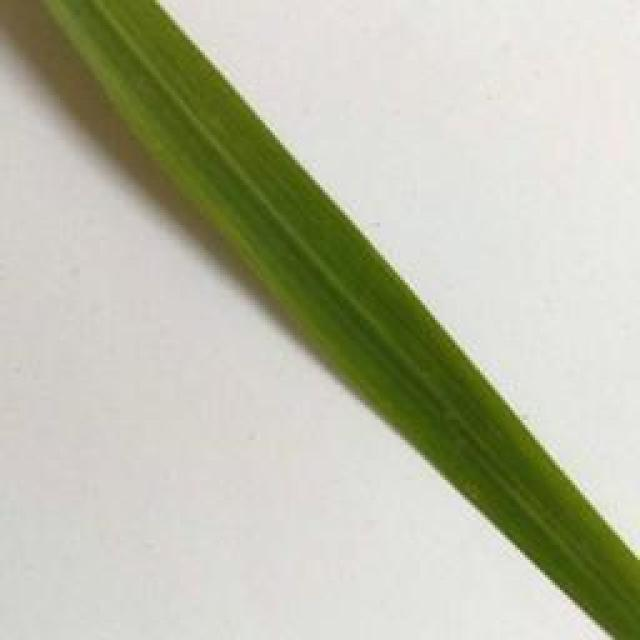Healthy-Plant: (118, 115, 364, 231), (42, 0, 261, 116), (216, 232, 449, 332), (297, 332, 531, 430), (478, 507, 640, 640), (393, 431, 597, 508)
